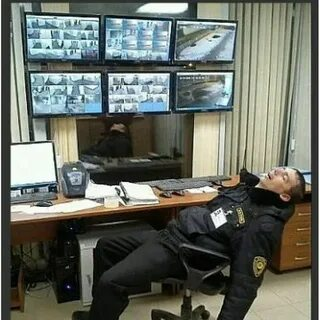sleep: (69, 165, 306, 320)
